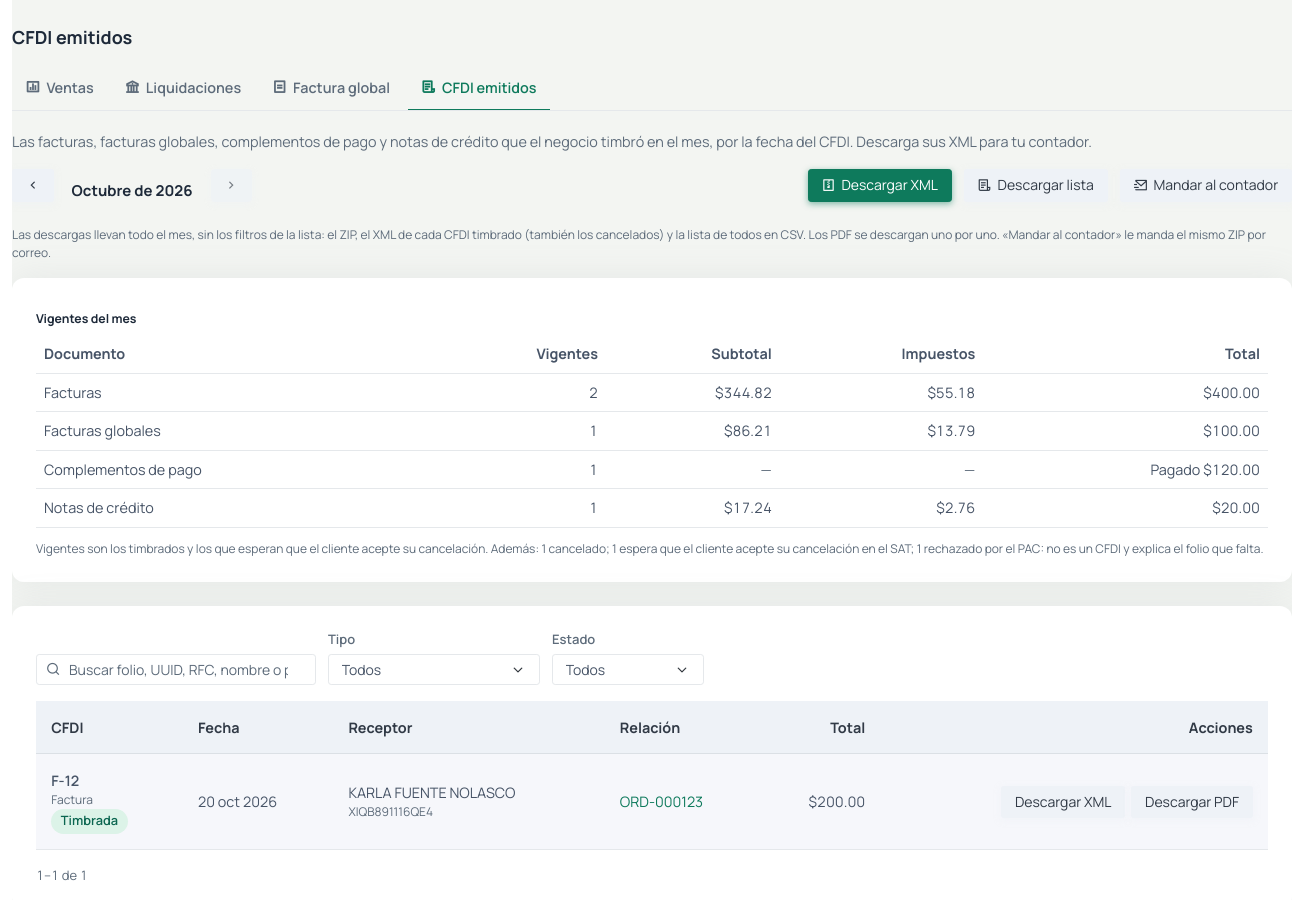
Scenario: IssuedCfdis › narrows the month by kind, state and search, and goes back a month
Expected: the text "F-12" is shown, [51,771,79,790]
Select "Notas de crédito" in the dropdown labelled "Tipo" at (434, 669), box [328,654,540,685]
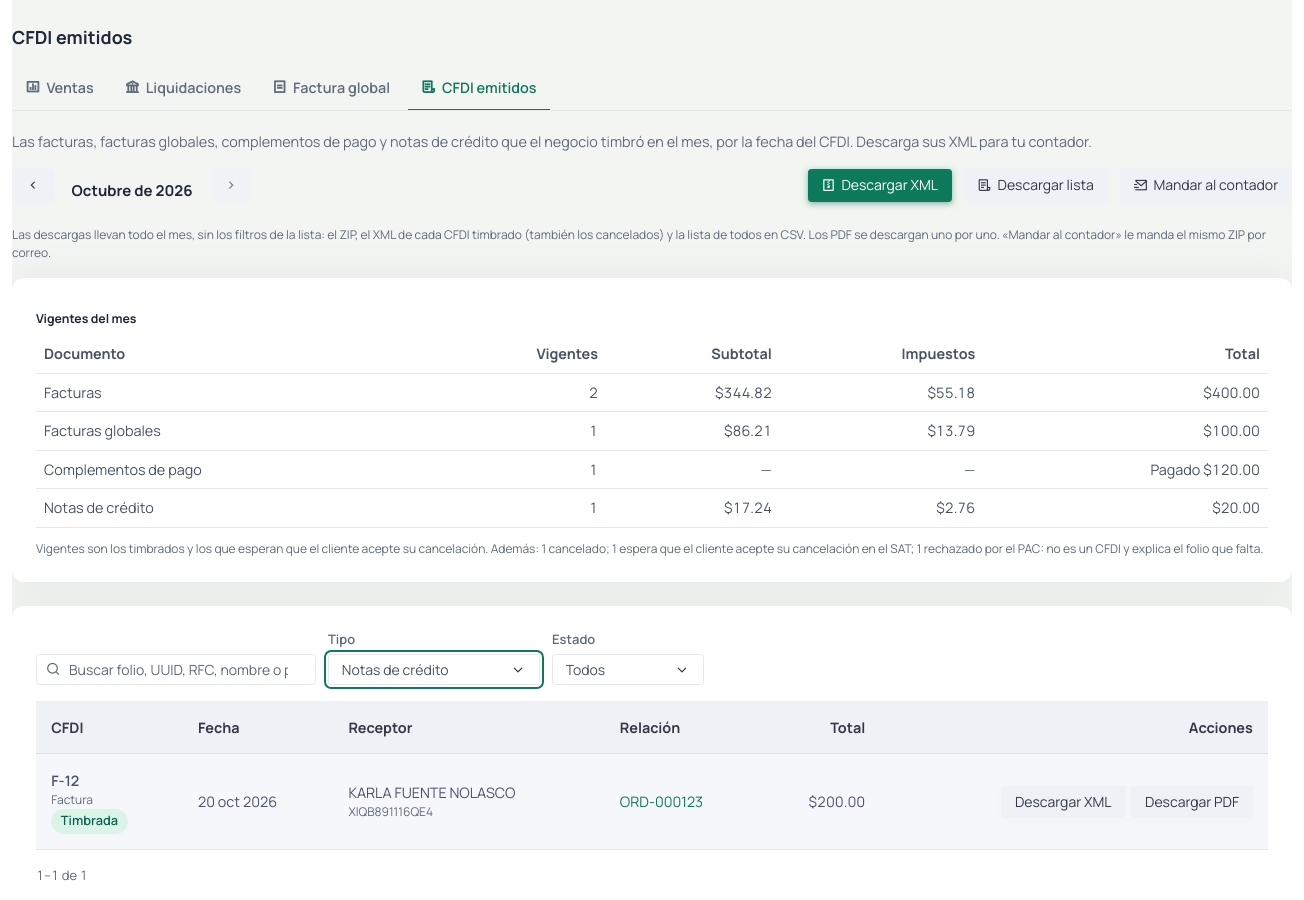
Select "Cancelados" in the dropdown labelled "Estado" at (628, 669), box [552,654,704,685]
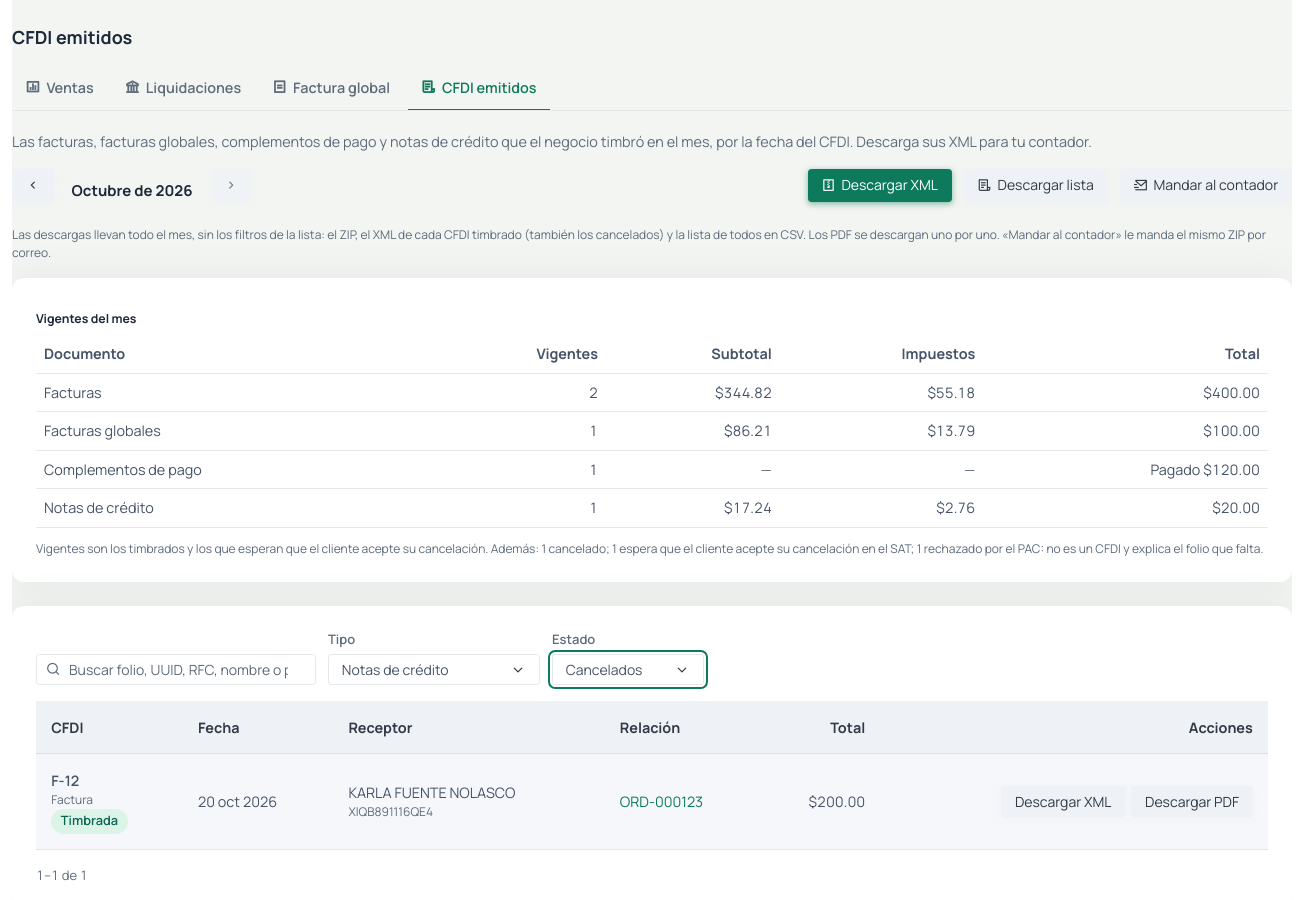
Type "xiqb" into the search field with placeholder "Buscar folio, UUID, RFC, nombre o pedido" at (176, 670), box [36,654,316,686]
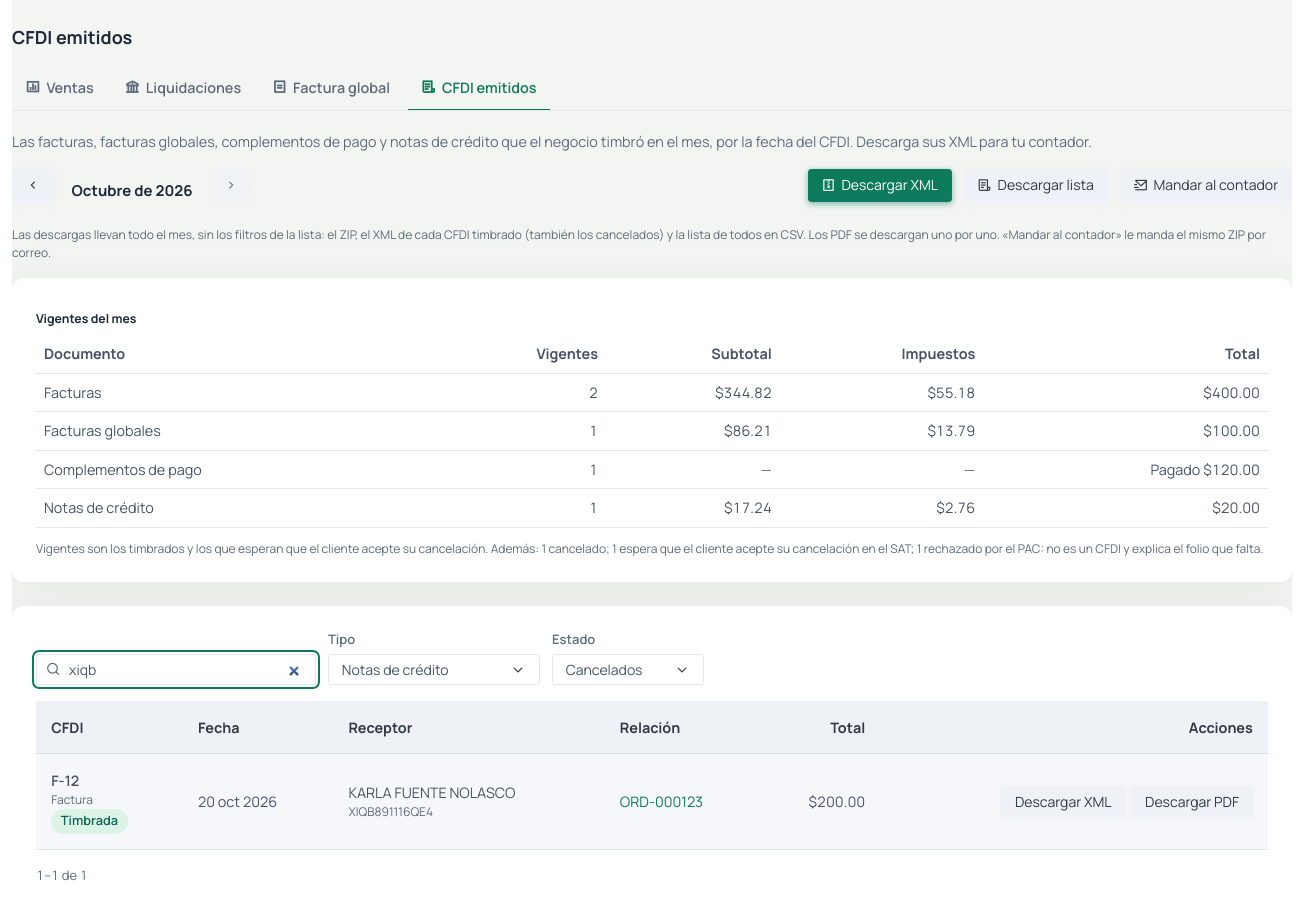
Click the button named "Mes anterior (septiembre de 2026)" at (33, 185), box [12,169,54,202]
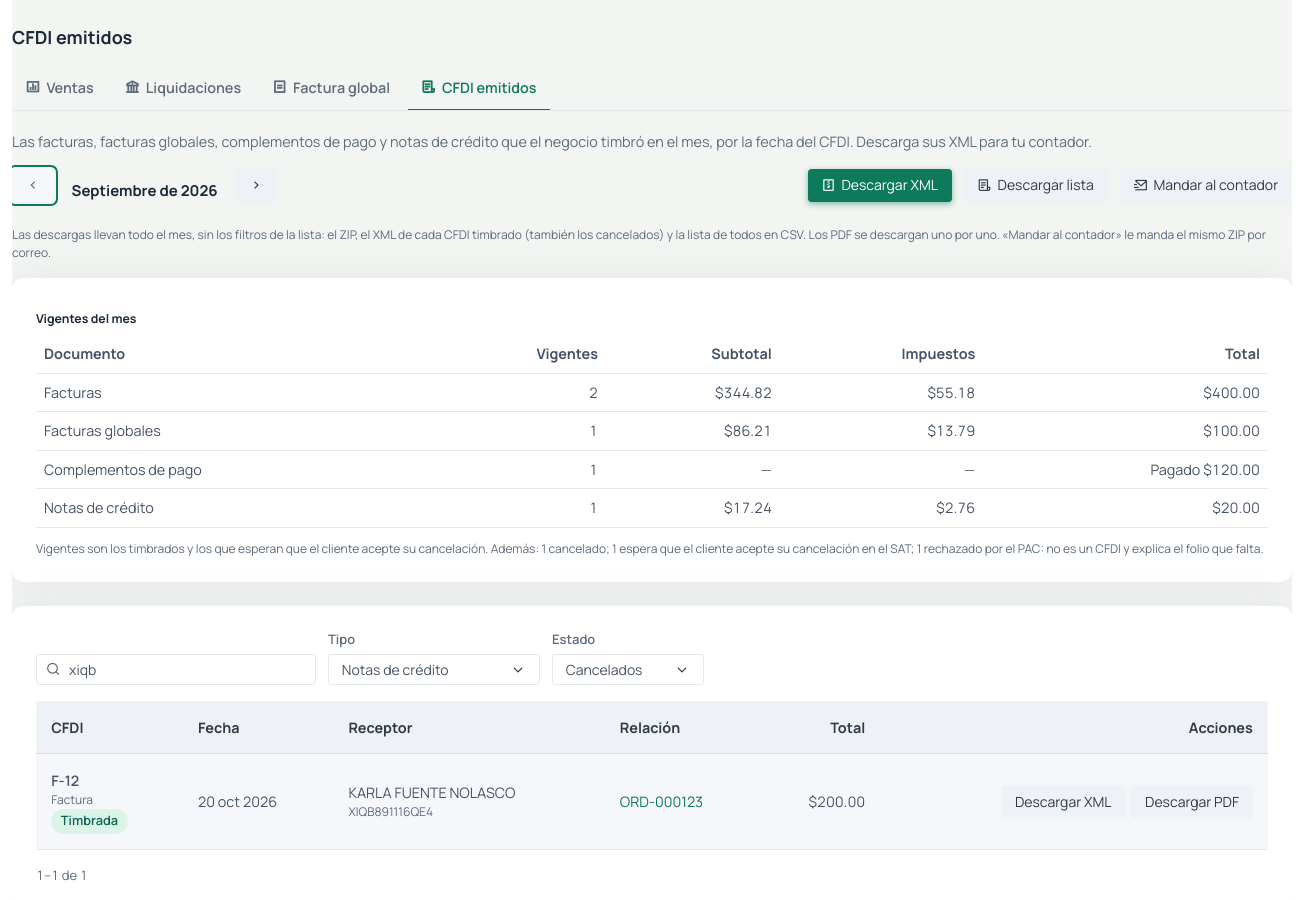
Expected: the button named "Mes siguiente (octubre de 2026)" is enabled, [236,169,277,202]
Expected: the heading "Septiembre de 2026" is shown, [66,182,224,198]
